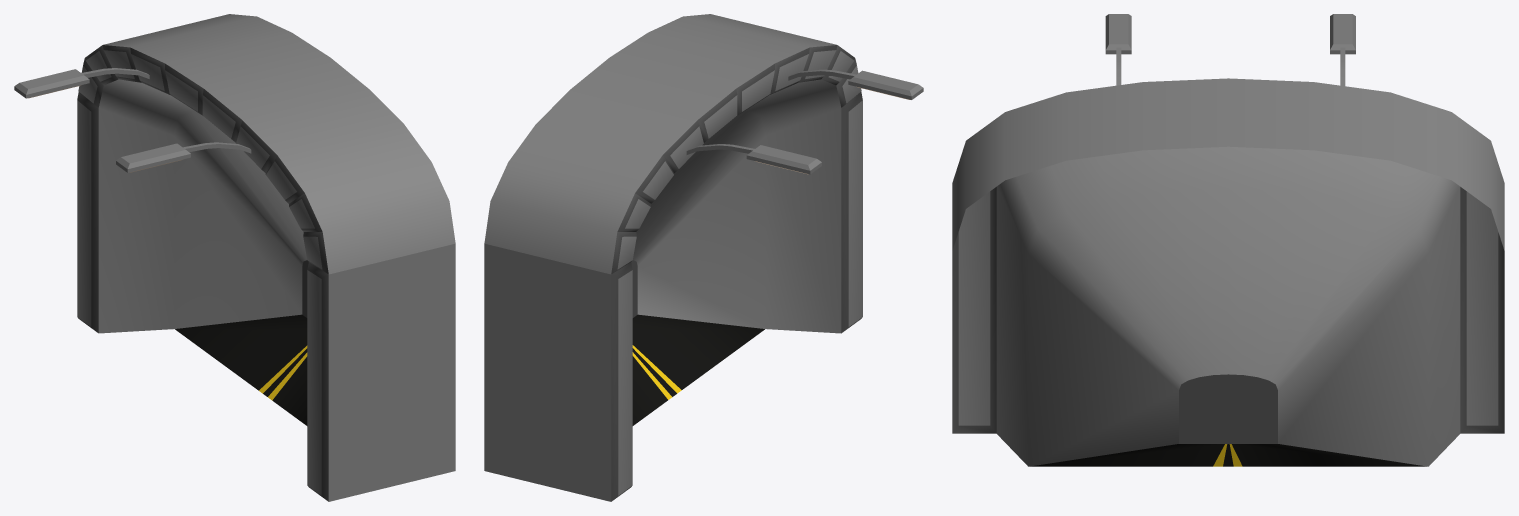
Rendered from Road_Tunnel_Endcap.fbx.
3 views of the same model, side by side, from view 1: azimuth 30°, elevation 25°; view 2: azimuth 150°, elevation 25°; view 3: azimuth 270°, elevation 25° (orthographic). The views are drawn at different scales.
Parts seen in each view (by area): view 1: Tunnel_Endcap; view 2: Tunnel_Endcap; view 3: Tunnel_Endcap.
Part boxes in pixels (bbox=[...]): Tunnel_Endcap: bbox=[14, 14, 455, 501]; Tunnel_Endcap: bbox=[484, 14, 923, 501]; Tunnel_Endcap: bbox=[952, 14, 1504, 466].
Bounding box in the file's own units: 408 × 485 × 683.
